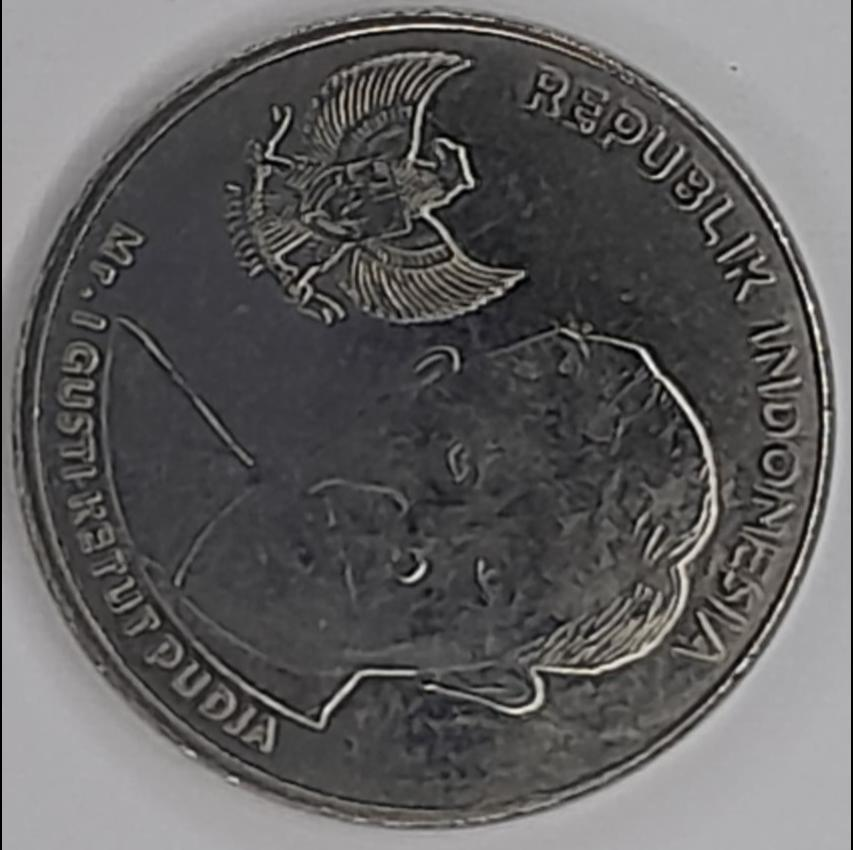coin_1000_e2016: (15, 17, 842, 850)
